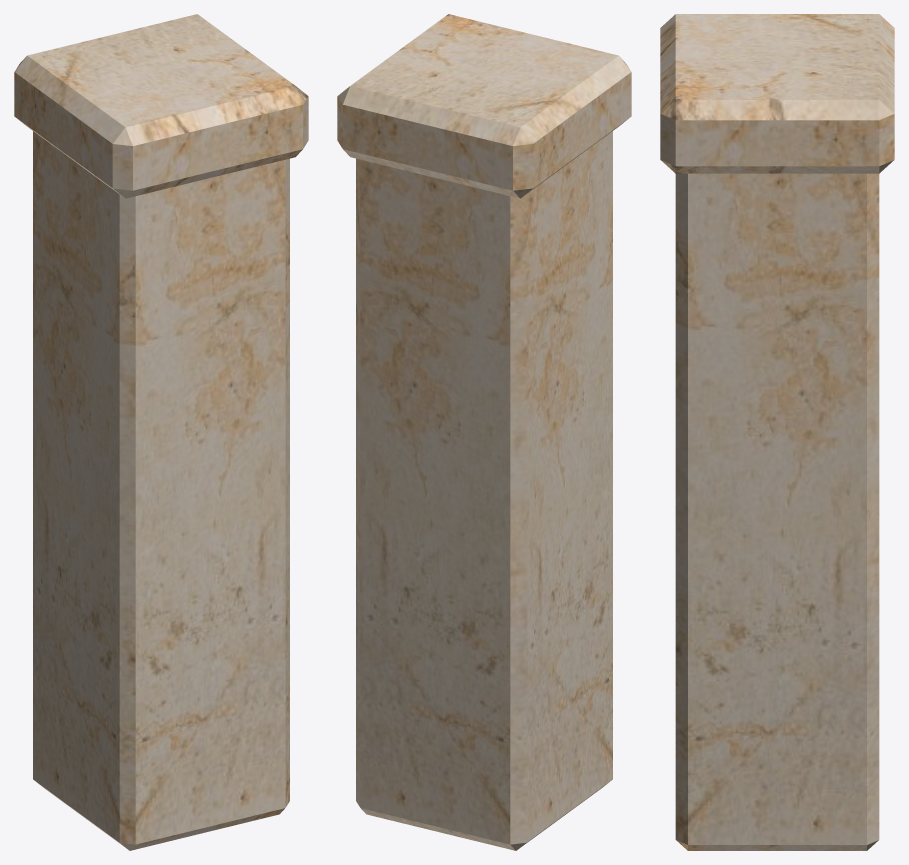
The model's file is concrete_marker.glb.
3 renders of one model, left to right at view 1: azimuth 30°, elevation 25°; view 2: azimuth 150°, elevation 25°; view 3: azimuth 270°, elevation 25°, orthographic. The views are drawn at different scales.
Visible parts, largest first — view 1: concrete_marker__VVK_concrete_CC0; view 2: concrete_marker__VVK_concrete_CC0; view 3: concrete_marker__VVK_concrete_CC0.
Part boxes in pixels (box(x1,y1,x2,y2)): concrete_marker__VVK_concrete_CC0: box(14, 14, 308, 850); concrete_marker__VVK_concrete_CC0: box(337, 14, 631, 850); concrete_marker__VVK_concrete_CC0: box(660, 14, 894, 850).
Size of the model in its own units: 0.23 by 0.82 by 0.23.
Materials: 1 (1 with a texture image).
